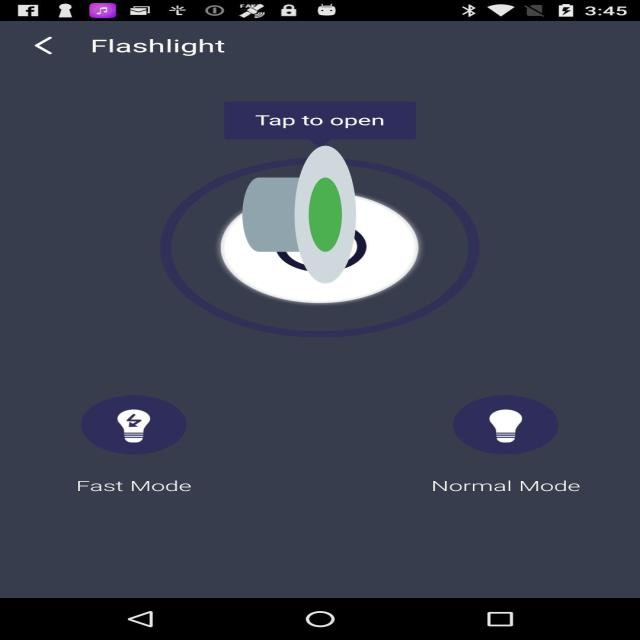social proof: (242, 87, 356, 342)
